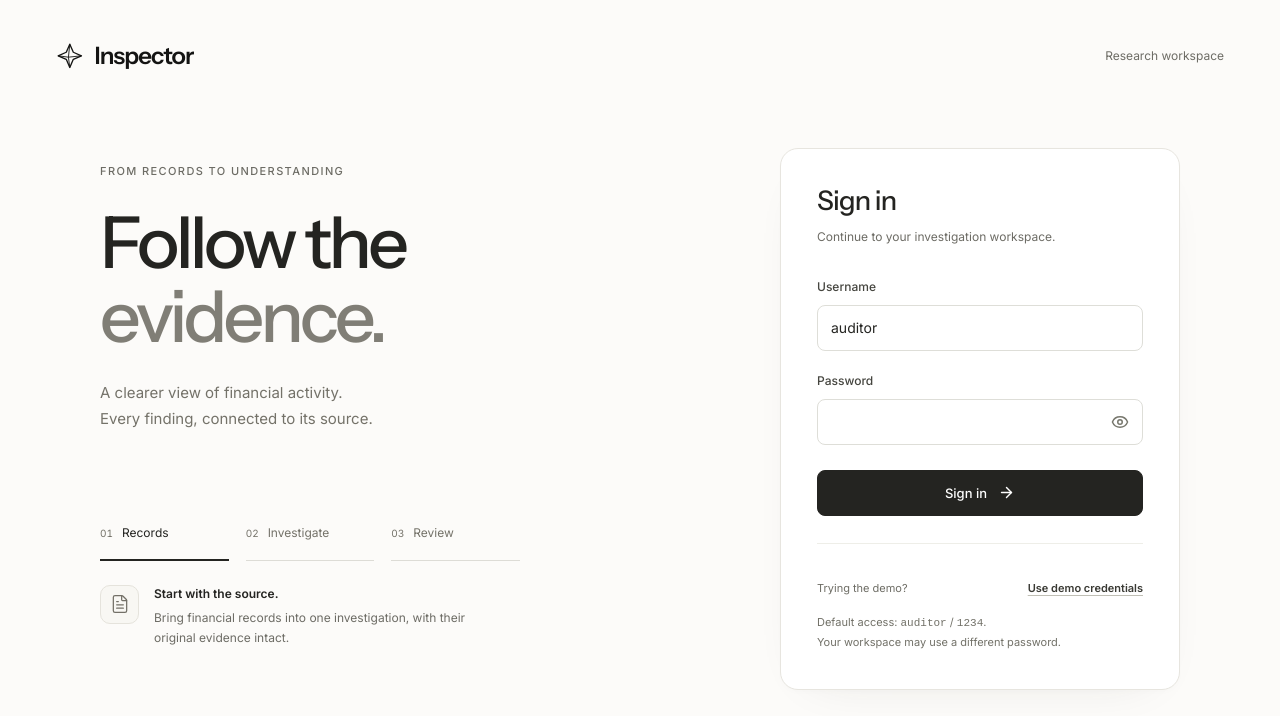
Test: DemoLogin › shows a truthful English error for status 503 / fuente_de_datos_no_disponible
Type "1234" into the password field labelled "Password".
click(980, 422); type("1234")  # box [817,399,1143,445]
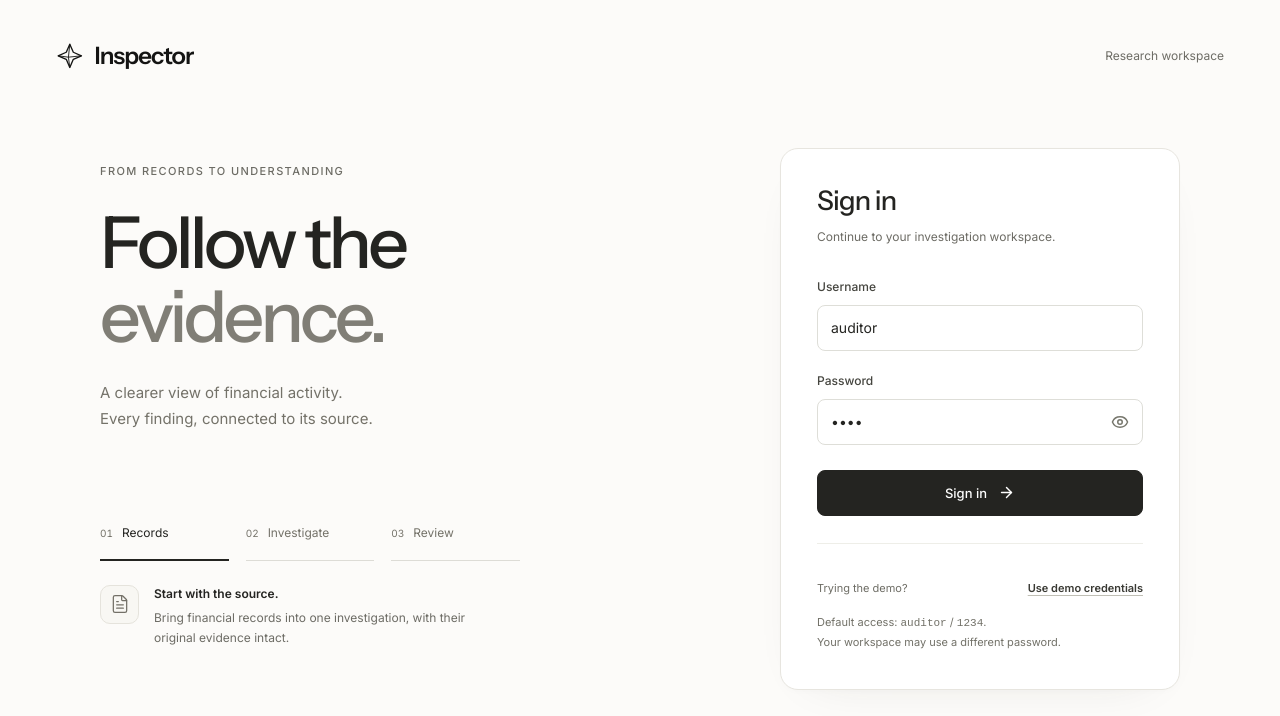
Submit the form "Sign in", box [817,277,1143,516]
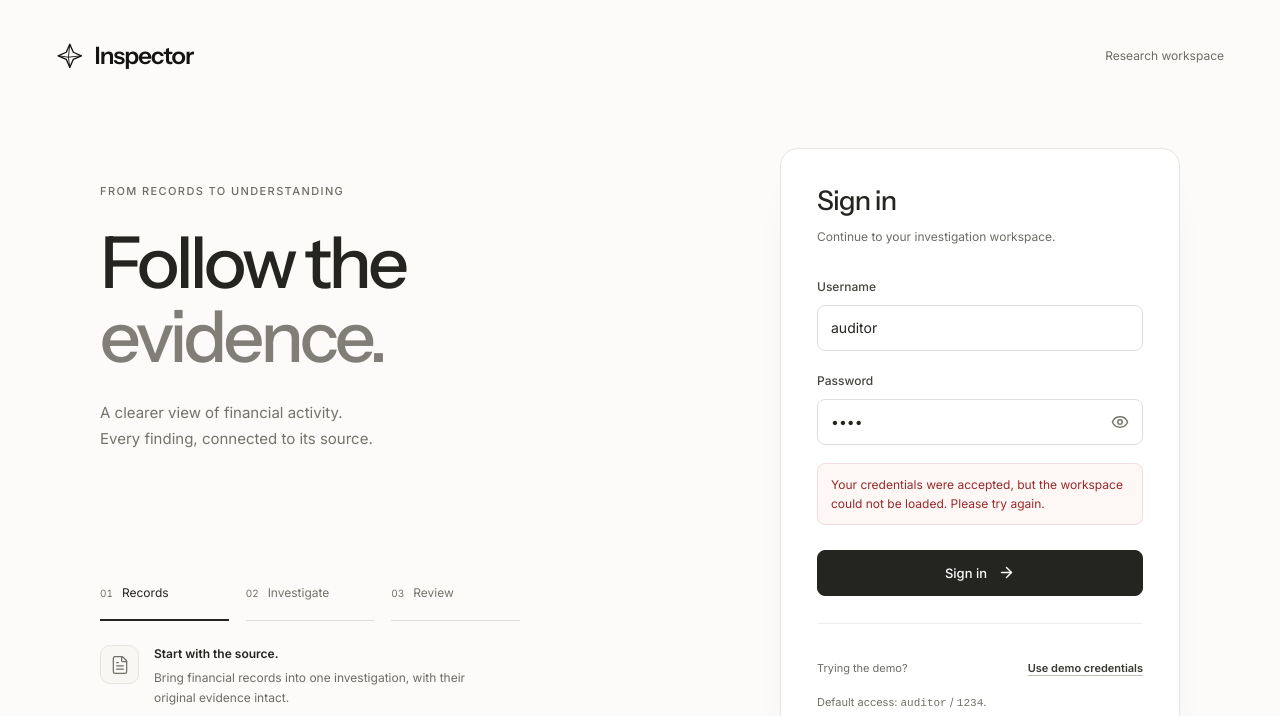
Expected: the button "Sign in" is enabled, [817,550,1143,596]
Result: the message shows "Your credentials were accepted, but the workspace could not be loaded." at [831,477,1123,511]
